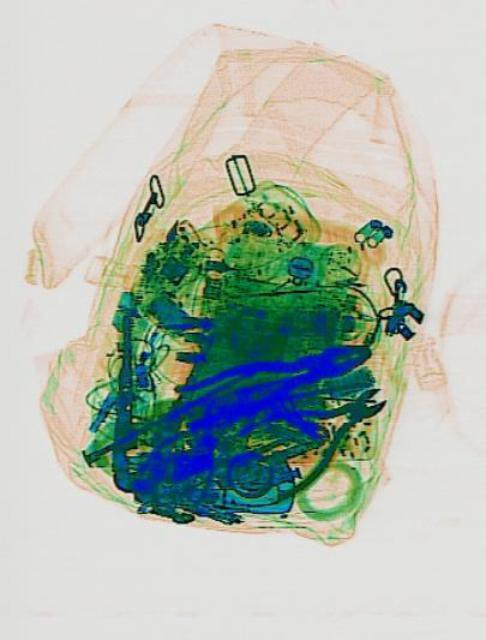Pliers: (231, 352, 396, 508), (168, 319, 375, 436)
